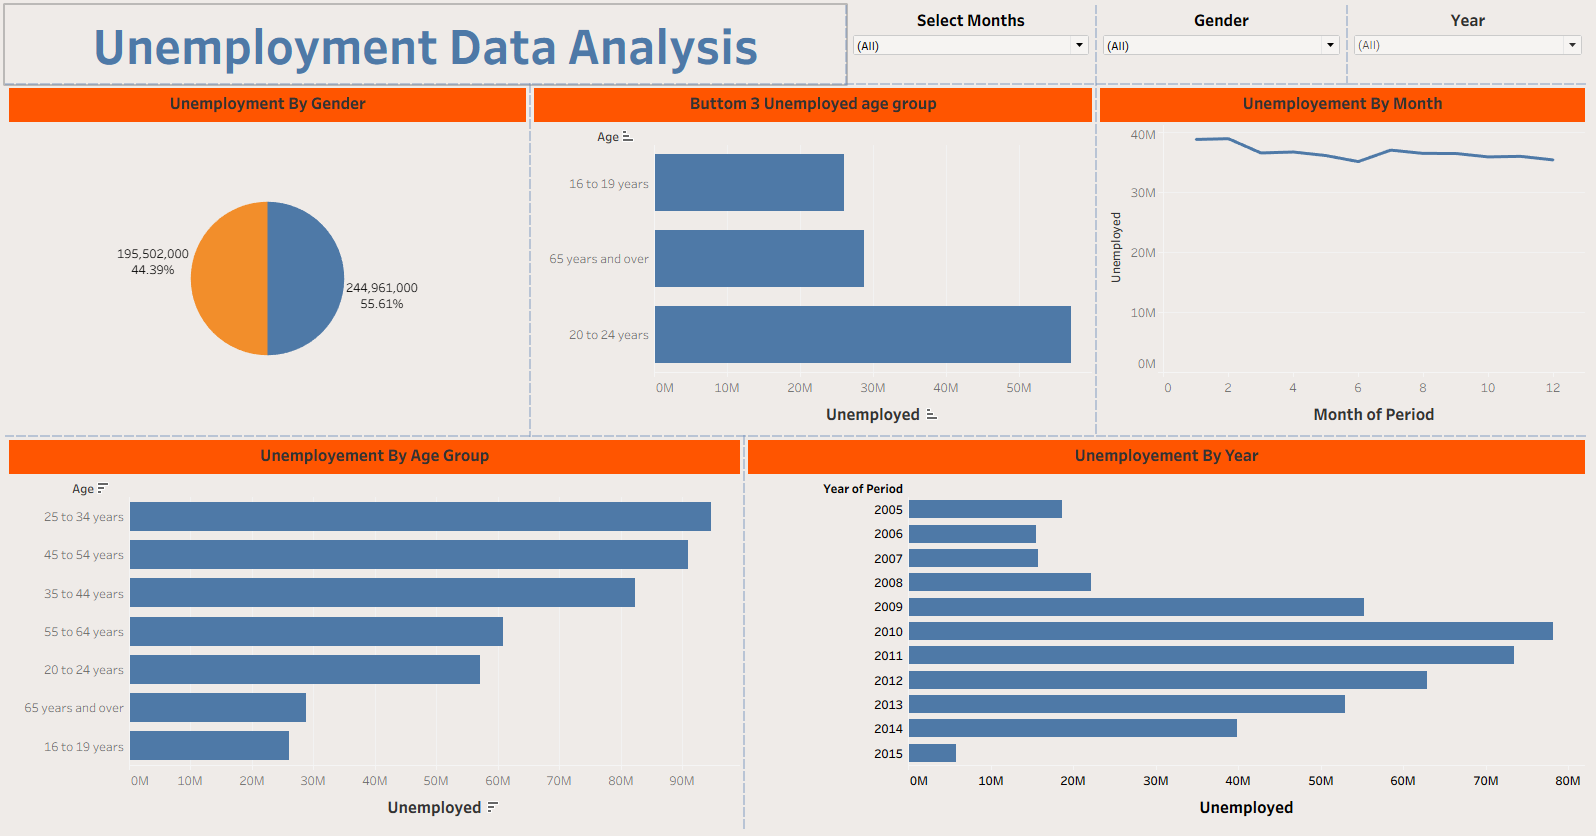

The dashboard page shown, as its layout file describes it:
{"tool":"tableau","page":{"name":"Dashboard 2","canvas":[1600,840],"ordinal":0},"visuals":[{"type":"text","box":[8,8,841,79]},{"type":"filter","title":"Unemployement By Year","param":"[federated.1ar2et20r5rtot0zwvx7d1p5irzq].[mn:Period:ok]","box":[849,8,250,79]},{"type":"filter","title":"Unemployement By Year","param":"[federated.1ar2et20r5rtot0zwvx7d1p5irzq].[none:Gender:nk]","box":[1099,8,251,79]},{"type":"filter","title":"Unemployment by Gender","param":"[federated.1ar2et20r5rtot0zwvx7d1p5irzq].[yr:Period:ok]","box":[1350,8,242,79]},{"type":"worksheet","title":"Unemployment by Gender","mark":"Pie","box":[8,87,525,352]},{"type":"worksheet","title":"Buttom 3 Unemployed age group","mark":"Automatic","rows":["Age"],"cols":["Unemployed"],"box":[533,87,566,352]},{"type":"worksheet","title":"Unemployement By Month","mark":"Automatic","rows":["Unemployed"],"cols":["Period"],"box":[1099,87,493,352]},{"type":"worksheet","title":"Unemployement By Age Group","mark":"Automatic","rows":["Age"],"cols":["Unemployed"],"box":[8,439,739,393]},{"type":"worksheet","title":"Unemployement By Year","mark":"Bar","rows":["Period"],"cols":["Unemployed"],"box":[747,439,845,393]}]}

Visuals, with their boxes in screenshot pixels (x1, y1, x2, y2), scaled from the page's 1600x840 canvas onto the 1596x836 screenshot:
text: <bbox>8, 8, 847, 87</bbox>
"Unemployement By Year" filter: <bbox>847, 8, 1096, 87</bbox>
"Unemployement By Year" filter: <bbox>1096, 8, 1347, 87</bbox>
"Unemployment by Gender" filter: <bbox>1347, 8, 1588, 87</bbox>
"Unemployment by Gender" worksheet (Pie marks): <bbox>8, 87, 532, 437</bbox>
"Buttom 3 Unemployed age group" worksheet: <bbox>532, 87, 1096, 437</bbox>
"Unemployement By Month" worksheet: <bbox>1096, 87, 1588, 437</bbox>
"Unemployement By Age Group" worksheet: <bbox>8, 437, 745, 828</bbox>
"Unemployement By Year" worksheet (Bar marks): <bbox>745, 437, 1588, 828</bbox>
